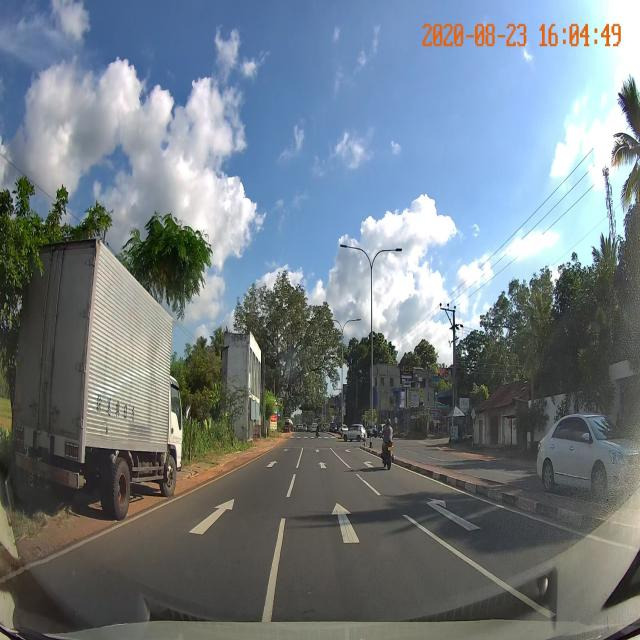diamond: (276, 488, 446, 552)
